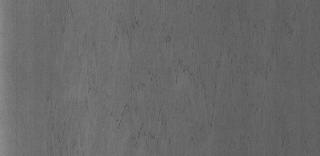silk spot: (76, 19, 274, 145)
